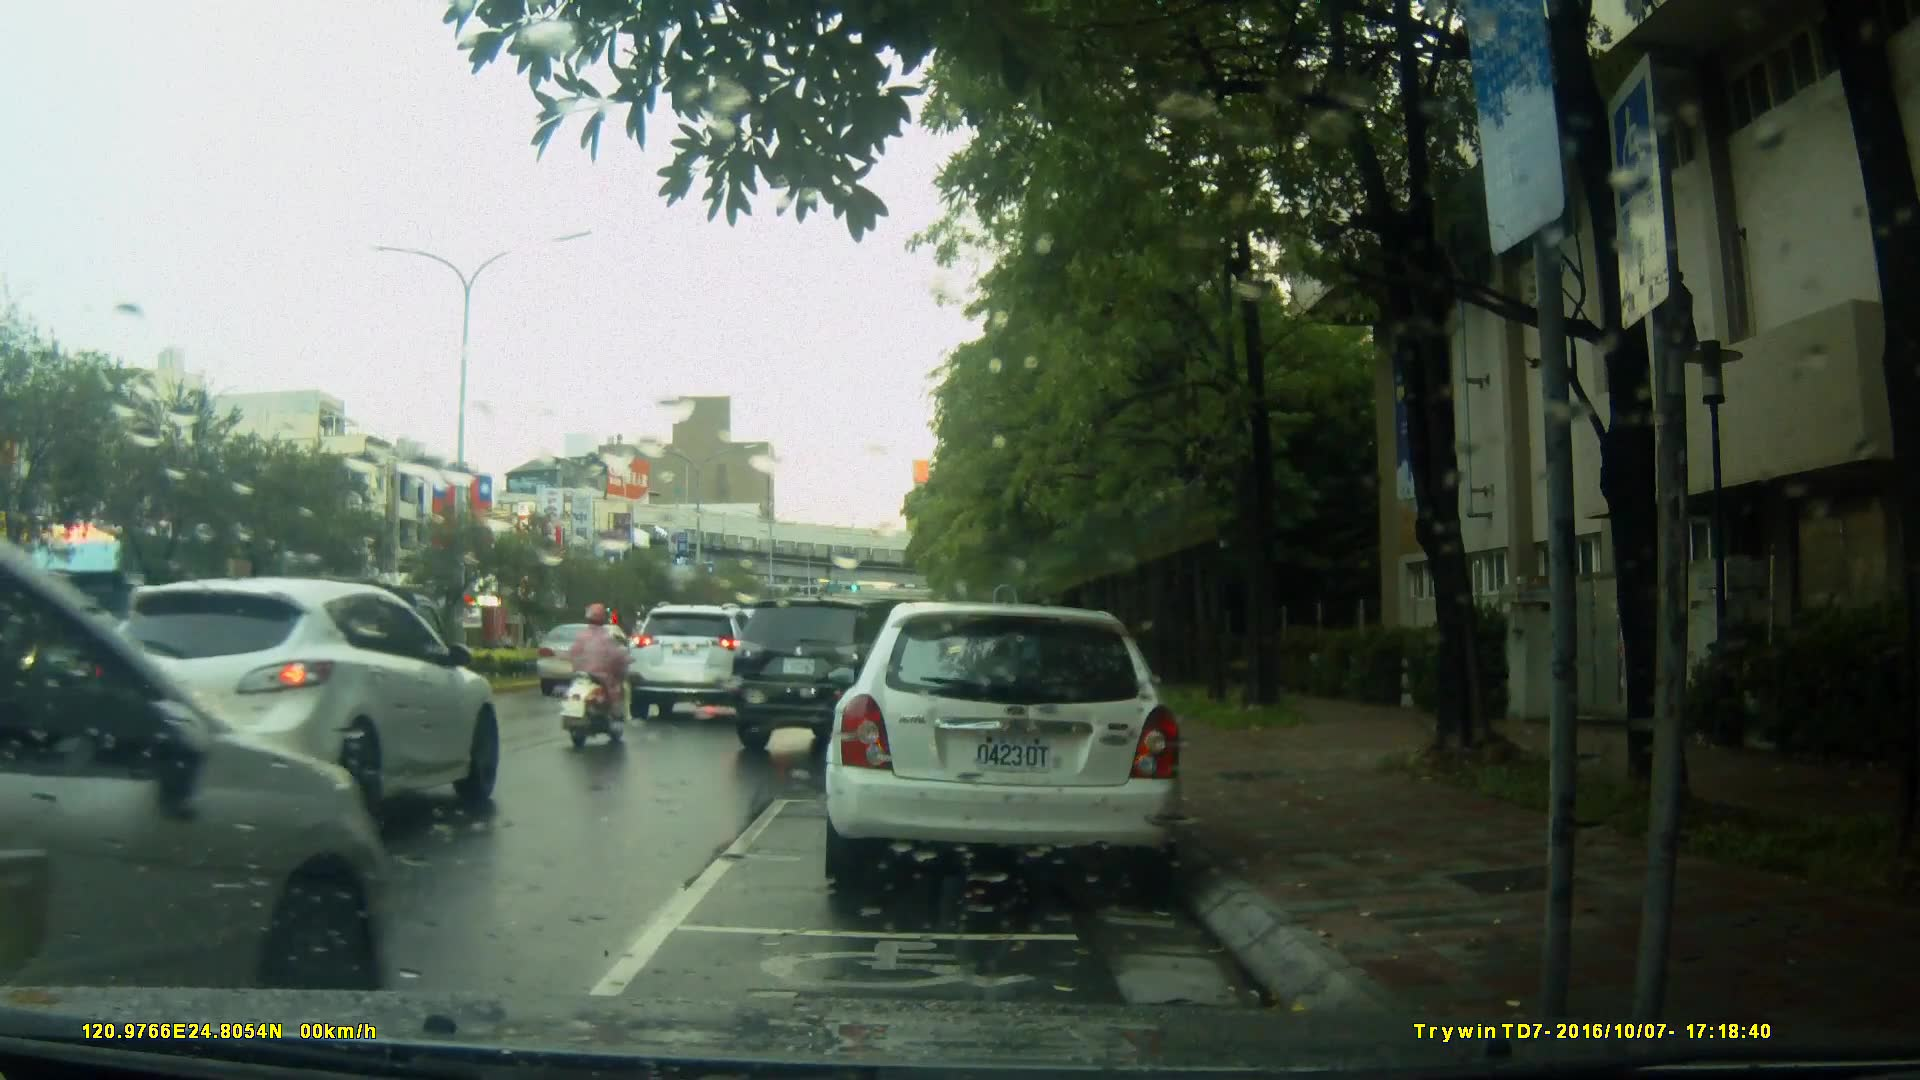rider: (563, 601, 640, 753)
vehicle: (1, 511, 408, 992), (87, 573, 507, 843), (820, 602, 1188, 898), (726, 597, 966, 757), (628, 604, 774, 723), (535, 620, 639, 698)
